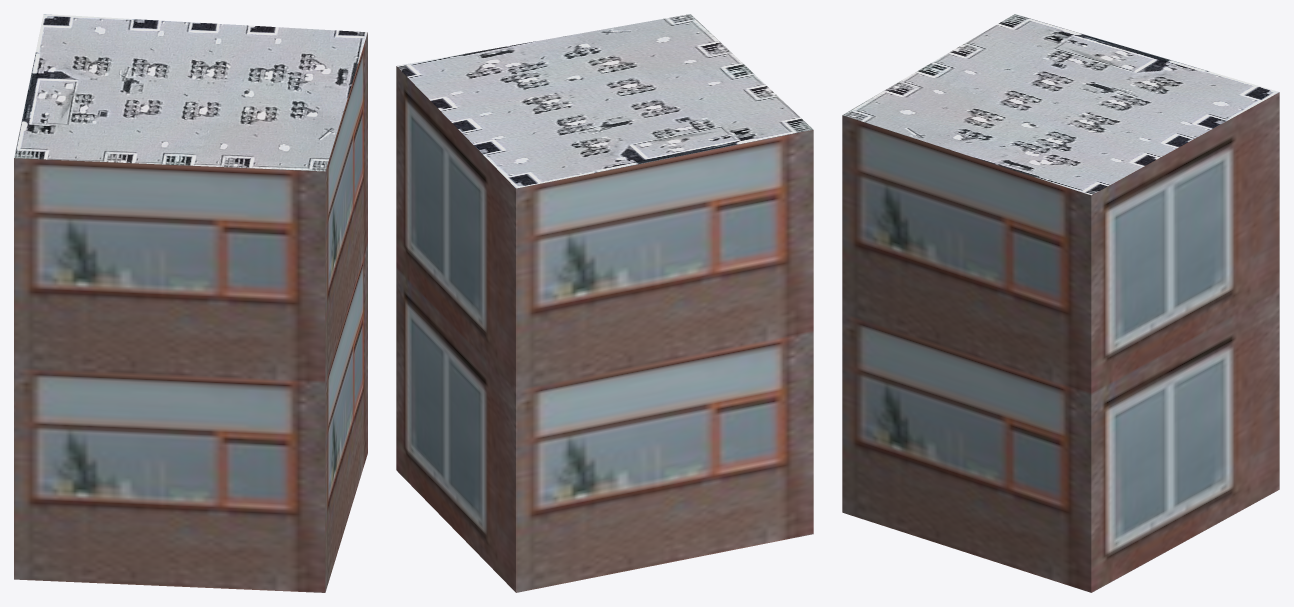
File: ResTex__1121.fbx
The picture shows the model from 3 angles, left to right: view 1: azimuth 30°, elevation 25°; view 2: azimuth 150°, elevation 25°; view 3: azimuth 270°, elevation 25°; orthographic projection. The views are drawn at different scales.
Parts seen in each view (by area): view 1: CityEngineMaterial_19_m, CityEngineMaterial_2_m; view 2: CityEngineMaterial_19_m, CityEngineMaterial_2_m; view 3: CityEngineMaterial_19_m, CityEngineMaterial_2_m.
Boxes of the visible parts, left/top/right/bottom form: CityEngineMaterial_19_m: left=14, top=32, right=367, bottom=592; CityEngineMaterial_2_m: left=14, top=14, right=367, bottom=171; CityEngineMaterial_19_m: left=396, top=66, right=813, bottom=592; CityEngineMaterial_2_m: left=397, top=14, right=813, bottom=188; CityEngineMaterial_19_m: left=842, top=92, right=1279, bottom=592; CityEngineMaterial_2_m: left=842, top=14, right=1279, bottom=195.
Size of the model in its own units: 5.87 by 6 by 5.98.
2 materials, 2 textured.
